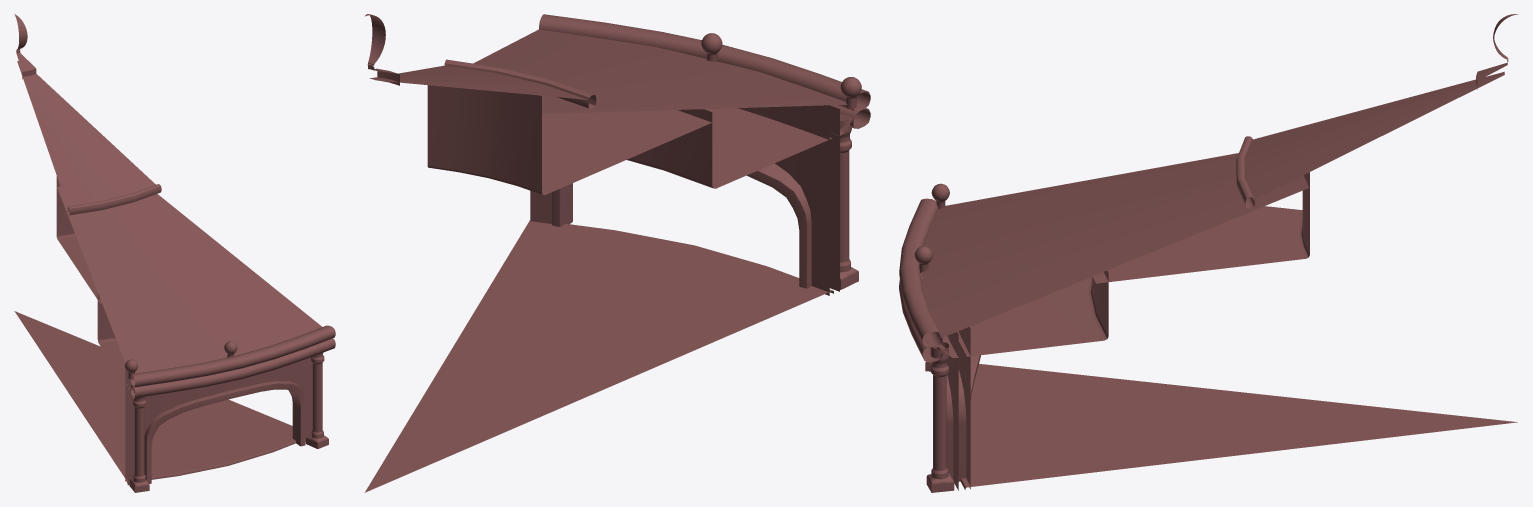
The model's file is gazebo low.fbx.
3 renders of one model, left to right at view 1: azimuth 30°, elevation 25°; view 2: azimuth 150°, elevation 25°; view 3: azimuth 270°, elevation 25°, orthographic. The views are drawn at different scales.
Visible parts, largest first — view 1: rooflow_low, Floor_low, rooftop_low, Entrancewall_low, beam_low, Door_low, beam2_low, Underneathsupport2_low, pillar_low, pillar2_low, Underneathsupport2_low1, Bean3_low (+1 smaller); view 2: Floor_low, Underneathsupport2_low, rooflow_low, Underneathsupport2_low1, doorreverse_low, beam_low, Door_low, rooftop_low, Entrancewall_low, pillar_low, Bean3_low, topball_low; view 3: Floor_low, rooflow_low, rooftop_low, Underneathsupport2_low, Underneathsupport2_low1, beam_low, pillar2_low, Door_low, doorreverse_low, Entrancewall_low, Bean3_low, beam2_low.
Boxes of the visible parts, x1=… form: rooflow_low: x1=57, y1=186, x2=321, y2=373; Floor_low: x1=14, y1=311, x2=295, y2=483; rooftop_low: x1=17, y1=61, x2=155, y2=207; Entrancewall_low: x1=127, y1=357, x2=312, y2=485; beam_low: x1=131, y1=325, x2=335, y2=387; Door_low: x1=144, y1=381, x2=305, y2=483; beam2_low: x1=131, y1=338, x2=335, y2=398; Underneathsupport2_low: x1=56, y1=176, x2=101, y2=303; pillar_low: x1=129, y1=388, x2=149, y2=492; pillar2_low: x1=306, y1=353, x2=328, y2=448; Underneathsupport2_low1: x1=97, y1=293, x2=127, y2=385; Bean3_low: x1=67, y1=184, x2=161, y2=215; Floor_low: x1=364, y1=220, x2=833, y2=492; Underneathsupport2_low: x1=427, y1=85, x2=722, y2=195; rooflow_low: x1=473, y1=29, x2=847, y2=113; Underneathsupport2_low1: x1=627, y1=108, x2=832, y2=188; doorreverse_low: x1=530, y1=105, x2=829, y2=295; beam_low: x1=539, y1=14, x2=870, y2=111; Door_low: x1=552, y1=163, x2=811, y2=288; rooftop_low: x1=369, y1=65, x2=587, y2=99; Entrancewall_low: x1=823, y1=105, x2=839, y2=291; pillar_low: x1=840, y1=119, x2=858, y2=289; Bean3_low: x1=444, y1=59, x2=596, y2=108; topball_low: x1=365, y1=14, x2=399, y2=85; Floor_low: x1=960, y1=364, x2=1517, y2=489; rooflow_low: x1=921, y1=153, x2=1308, y2=338; rooftop_low: x1=1245, y1=71, x2=1504, y2=199; Underneathsupport2_low: x1=1092, y1=172, x2=1309, y2=283; Underneathsupport2_low1: x1=957, y1=270, x2=1108, y2=356; beam_low: x1=899, y1=198, x2=942, y2=346; pillar2_low: x1=926, y1=342, x2=954, y2=492; Door_low: x1=946, y1=355, x2=980, y2=481; doorreverse_low: x1=958, y1=327, x2=970, y2=489; Entrancewall_low: x1=947, y1=332, x2=958, y2=490; Bean3_low: x1=1236, y1=136, x2=1254, y2=208; beam2_low: x1=899, y1=279, x2=942, y2=361.
Size of the model in its own units: 1545 by 2173 by 2968.
